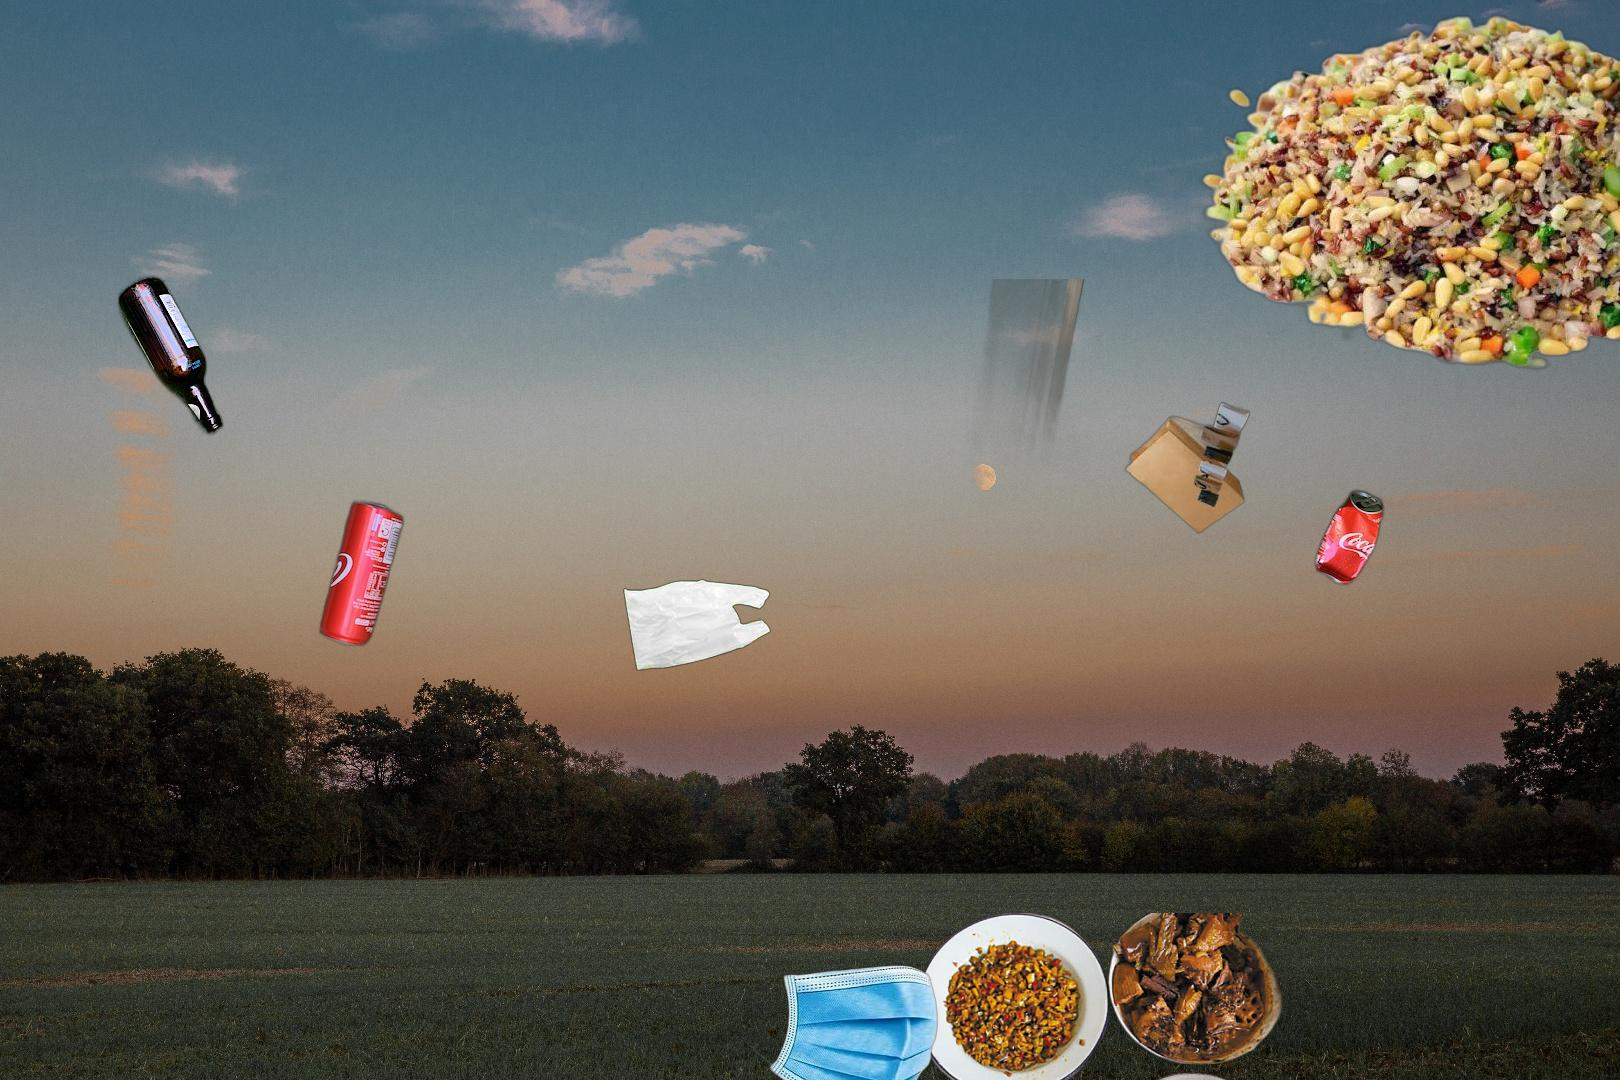biological: (1197, 10, 1620, 372), (910, 912, 1350, 1080)
glass: (115, 271, 228, 441)
metal-cans: (315, 495, 407, 651), (1311, 485, 1389, 589)
paper-bag: (965, 278, 1252, 535)
plastic-bag: (621, 577, 773, 673)
trash: (722, 962, 940, 1080)
